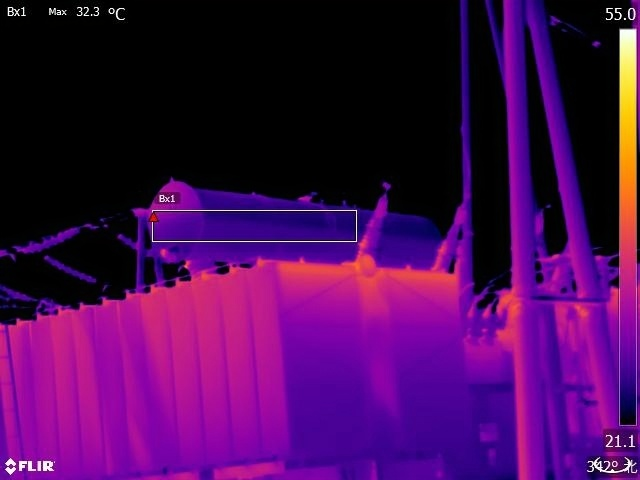insulator: (1, 211, 99, 260), (40, 254, 102, 288), (116, 228, 162, 261), (1, 284, 43, 308)
oil conservator: (142, 172, 442, 273)
transformer: (1, 262, 466, 480)
tube: (353, 181, 397, 264), (430, 189, 475, 267)
